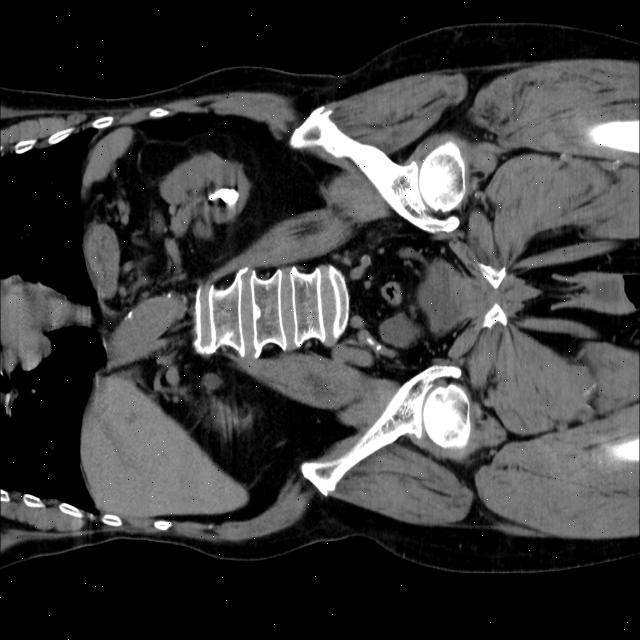kidneystone: (209, 186, 238, 204)
